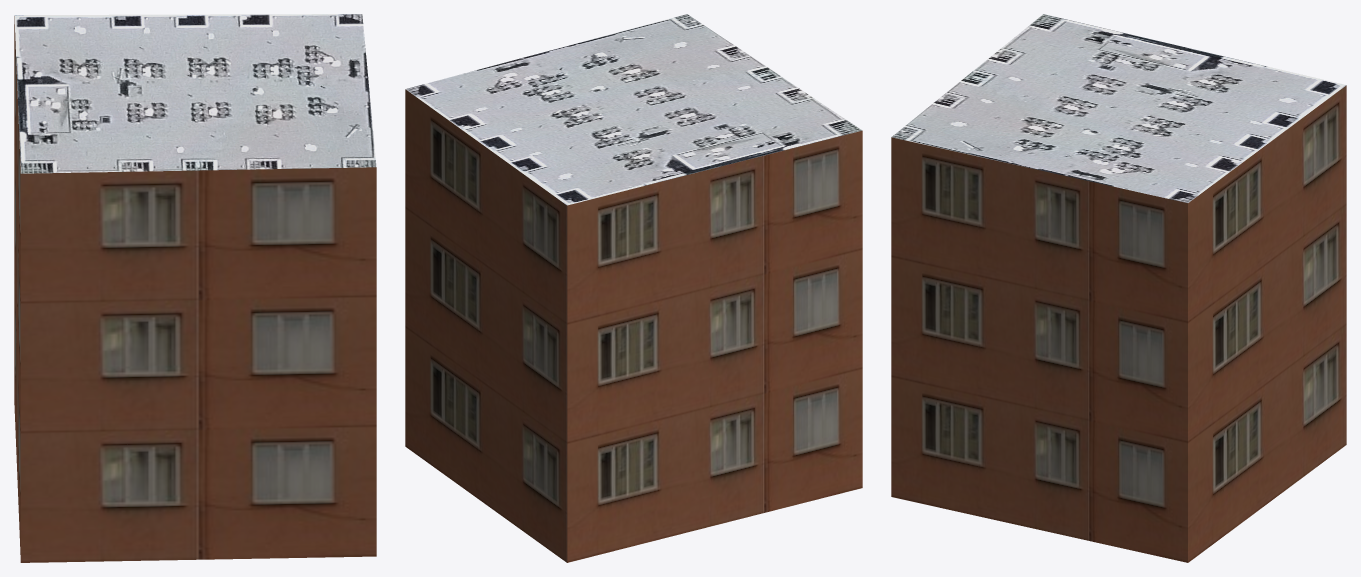
Rendered from ResTex__3647.fbx.
3 renders of one model, left to right at view 1: azimuth 30°, elevation 25°; view 2: azimuth 150°, elevation 25°; view 3: azimuth 270°, elevation 25°, orthographic. The views are drawn at different scales.
Visible parts, largest first — view 1: CityEngineMaterial_20_m, CityEngineMaterial_2_m; view 2: CityEngineMaterial_20_m, CityEngineMaterial_2_m; view 3: CityEngineMaterial_20_m, CityEngineMaterial_2_m.
Part boxes in pixels (x1,y1,x2,y2): CityEngineMaterial_20_m: (14,16,376,562); CityEngineMaterial_2_m: (14,14,376,173); CityEngineMaterial_20_m: (405,89,862,562); CityEngineMaterial_2_m: (405,14,862,205); CityEngineMaterial_20_m: (891,85,1346,562); CityEngineMaterial_2_m: (891,14,1346,202).
Bounding box in the file's own units: 10.16 × 9 × 10.33.
2 materials, 2 textured.
